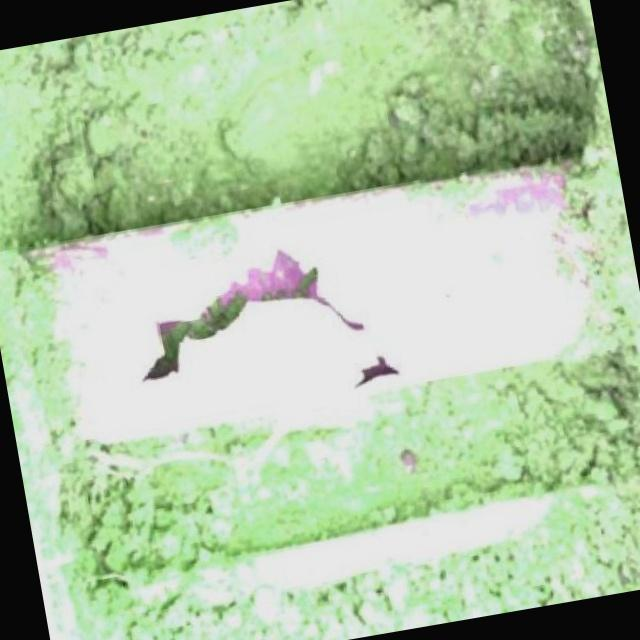Hole: (135, 240, 374, 395), (336, 332, 431, 418)
